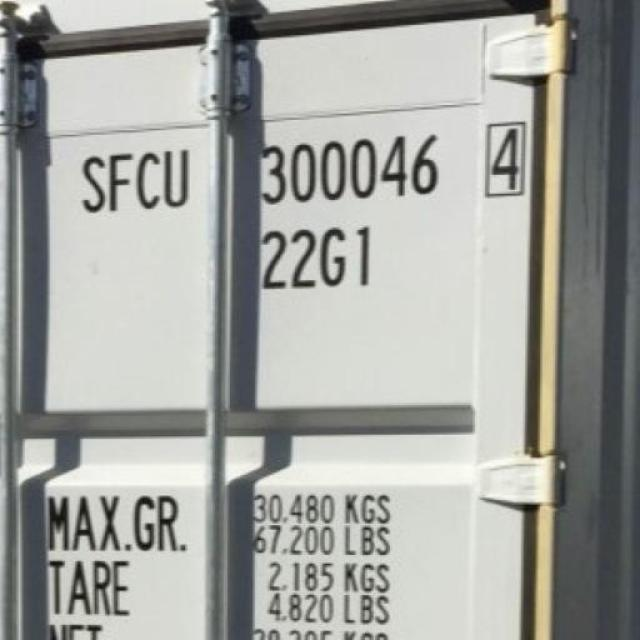ISO: (252, 230, 380, 292)
container_number: (75, 122, 531, 215)
